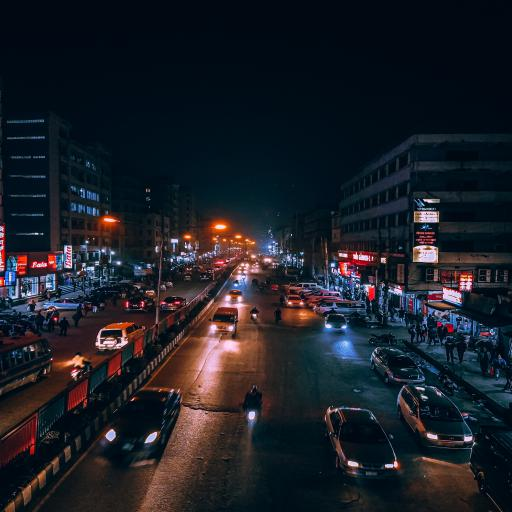bus: (1, 333, 56, 403)
car: (322, 406, 402, 485), (394, 383, 476, 457), (104, 385, 187, 455), (325, 312, 350, 338), (284, 295, 306, 313)
motorbike: (242, 384, 265, 431), (70, 351, 95, 387), (434, 366, 461, 396), (368, 333, 401, 348), (248, 306, 264, 325)
suv: (93, 320, 148, 358), (125, 295, 158, 315), (161, 295, 189, 315), (225, 289, 247, 306)
van: (209, 307, 242, 341)
